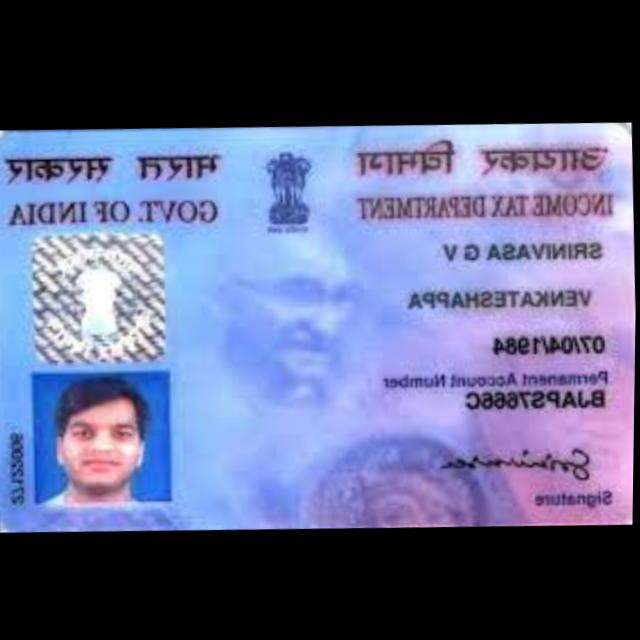pan: (0, 108, 639, 543)
